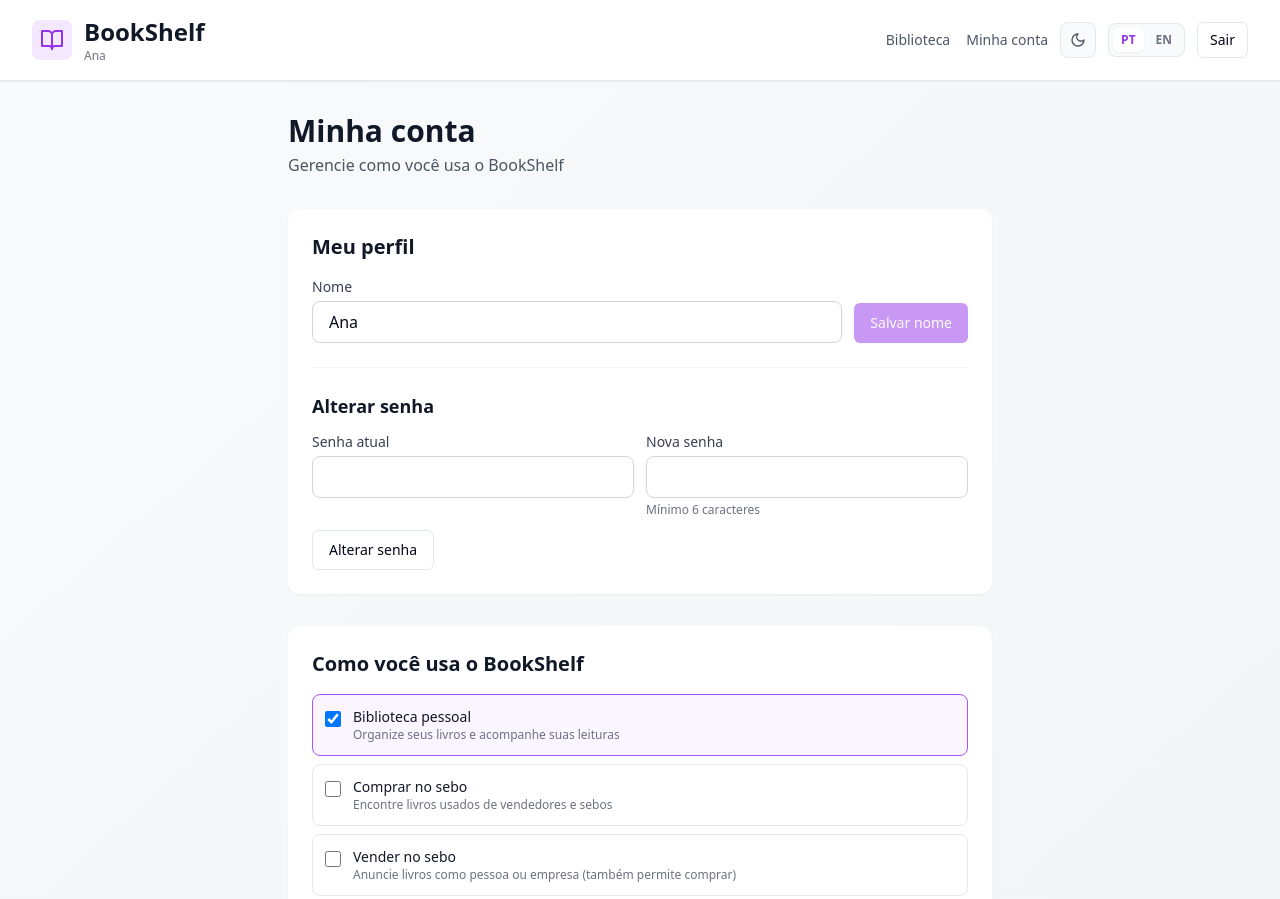
Test: AccountPage profile › changes the password and clears the fields
Type "old-secret" into the password field with test id "profile-current-password".
click(473, 477); type("old-secret")  # box [312, 456, 634, 498]
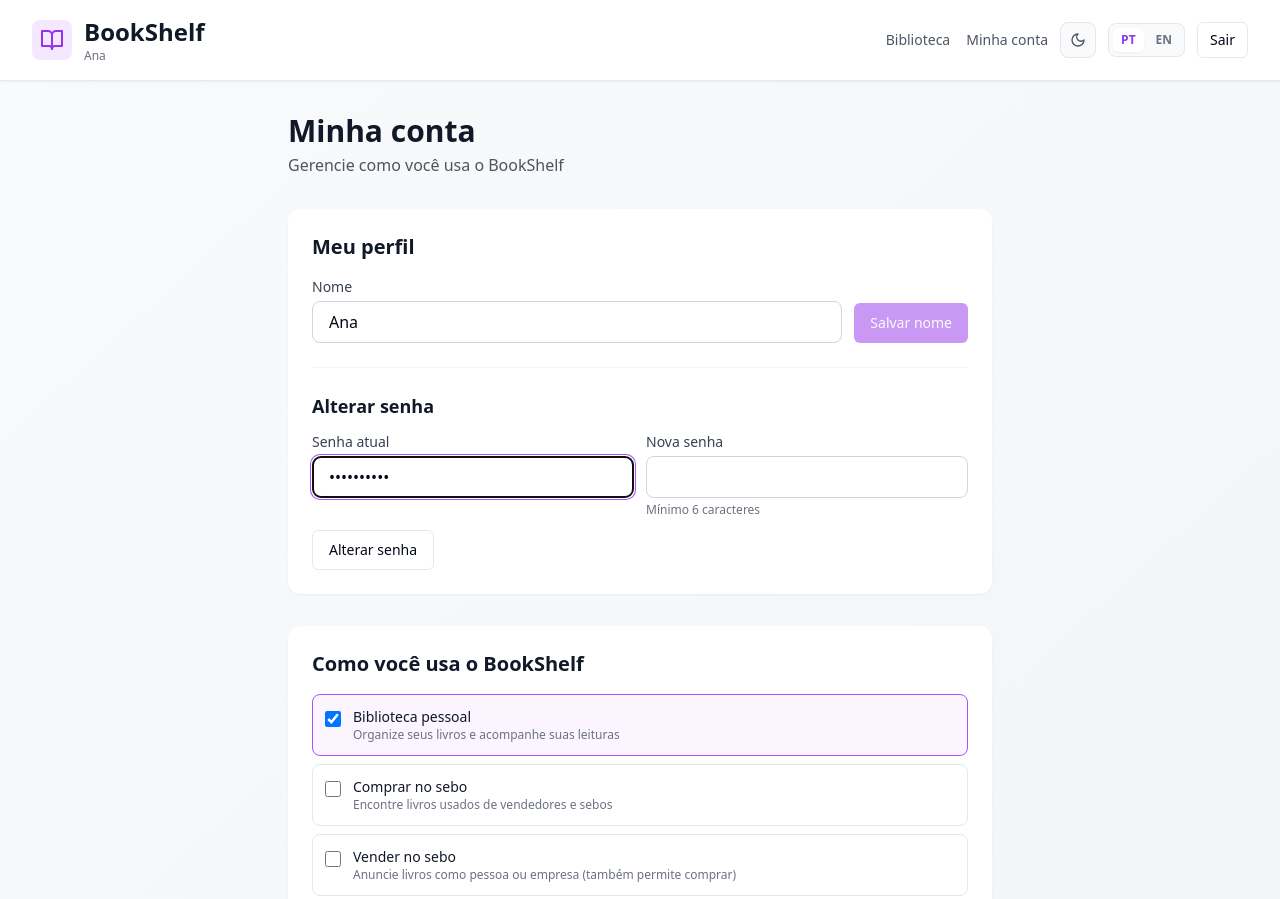
Type "new-secret" into the password field with test id "profile-new-password".
click(807, 477); type("new-secret")  # box [646, 456, 968, 498]
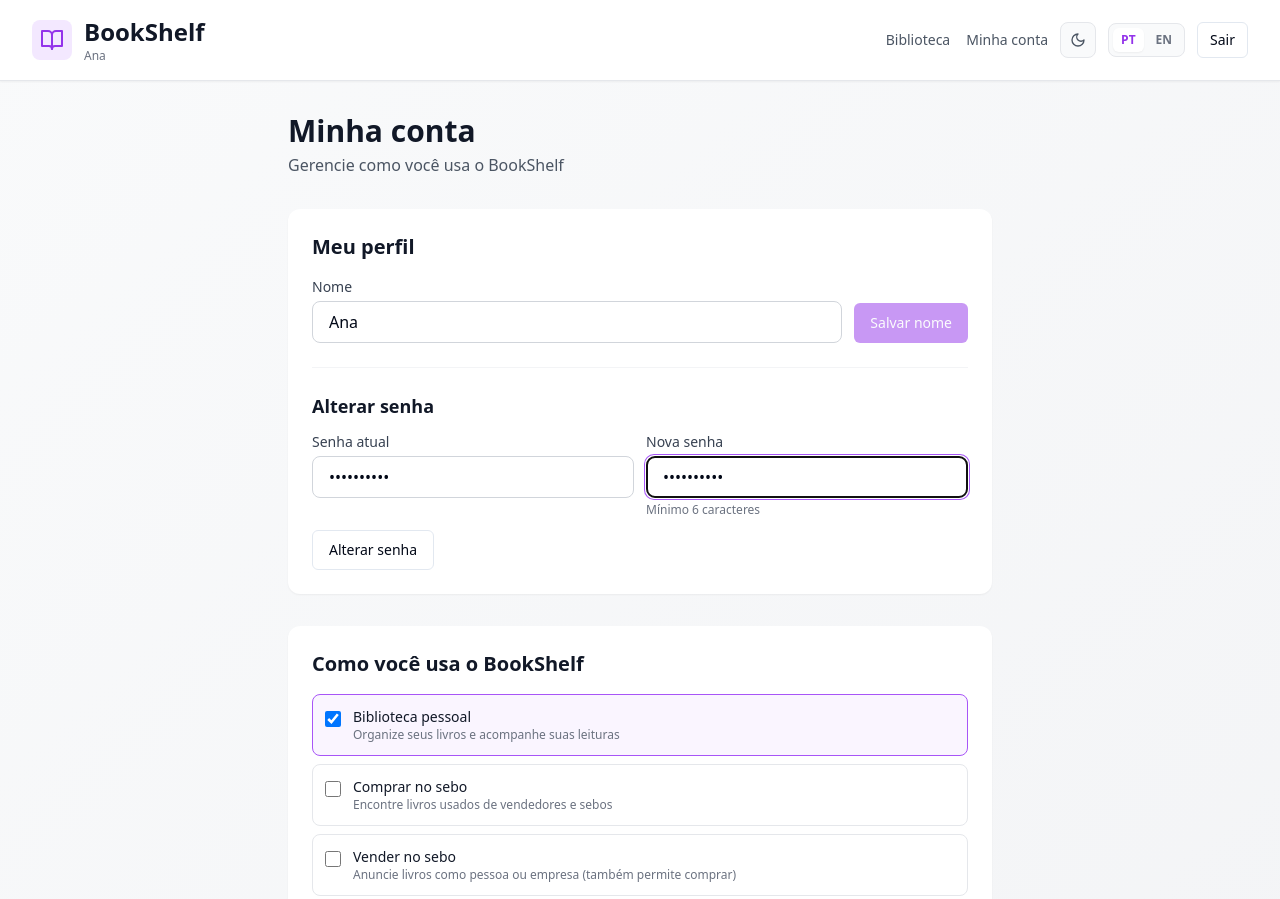
Click the button with test id "profile-password-save".
click(373, 550)  # box [312, 530, 434, 570]
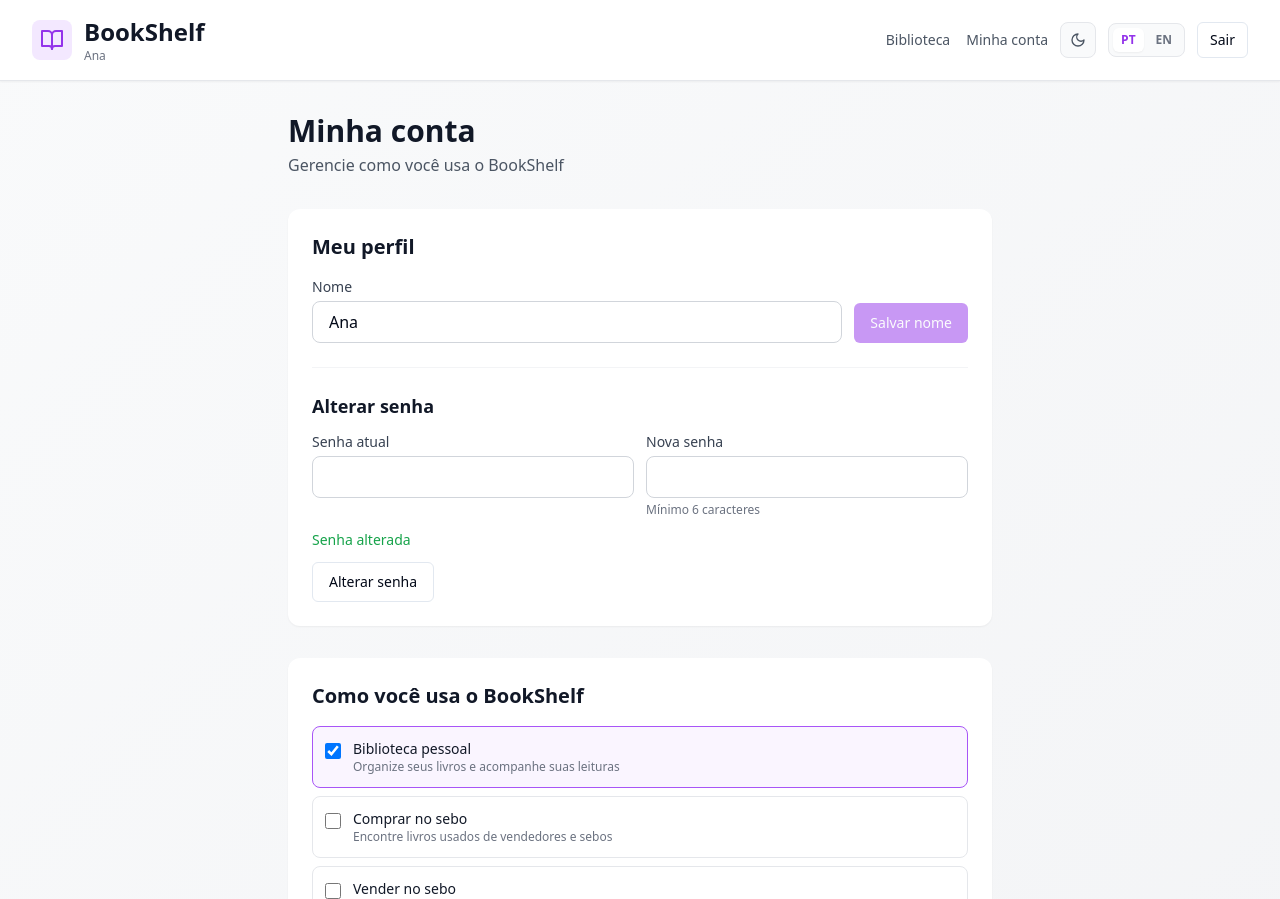
Check: the message "Senha alterada" is shown, box [312, 530, 411, 549]
Check: the password field with test id "profile-current-password" is empty, box [312, 456, 634, 498]
Check: the password field with test id "profile-new-password" is empty, box [646, 456, 968, 498]
